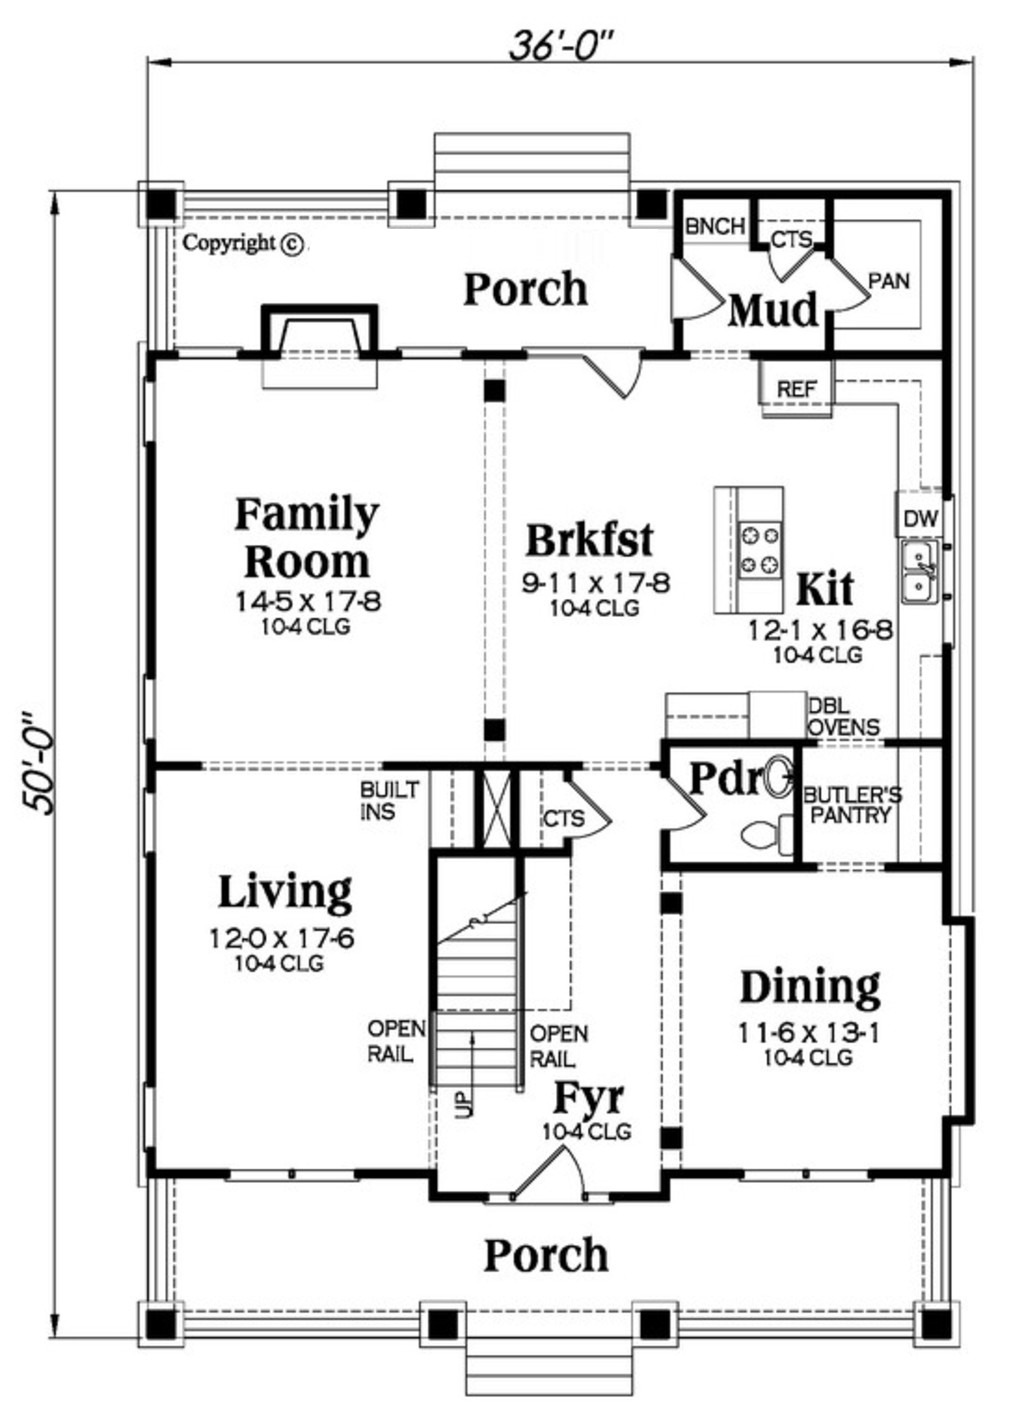door: (530, 759, 621, 863), (555, 328, 666, 408), (648, 746, 717, 850), (519, 1132, 600, 1212), (761, 219, 834, 292), (810, 248, 875, 328), (657, 248, 719, 330)
large_sink: (739, 801, 799, 863)
small_sink: (746, 743, 821, 816)
stairs: (413, 828, 535, 1088)
twin_sink: (888, 528, 964, 634)
window: (730, 1150, 877, 1203), (130, 666, 170, 861), (228, 1152, 348, 1190), (129, 372, 177, 443)
